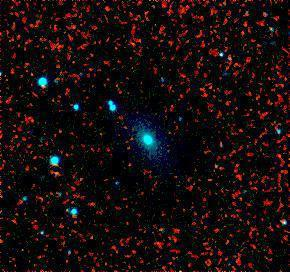star: (27, 216, 57, 246)
